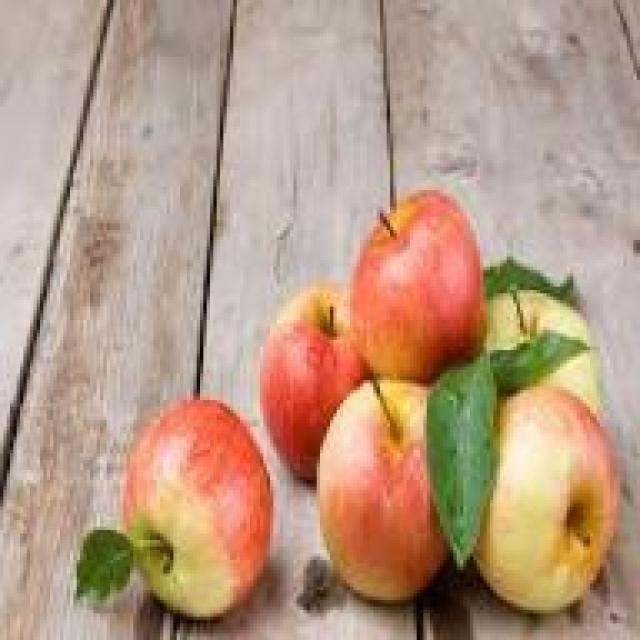apple: (117, 400, 273, 617), (480, 390, 633, 607), (310, 387, 460, 600), (257, 283, 393, 470), (350, 200, 483, 377)
